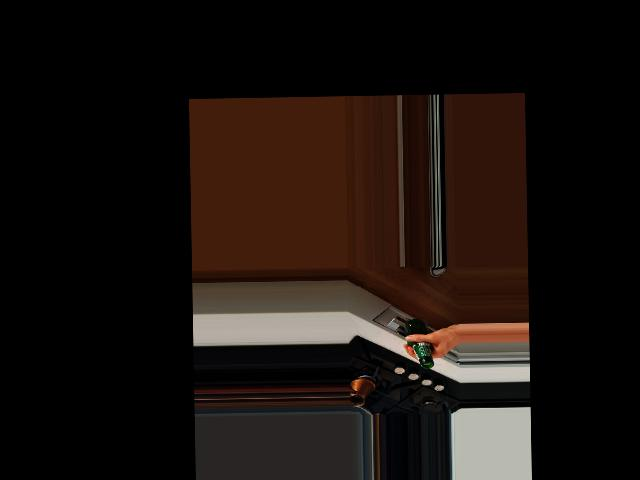beer: (405, 318, 434, 368)
